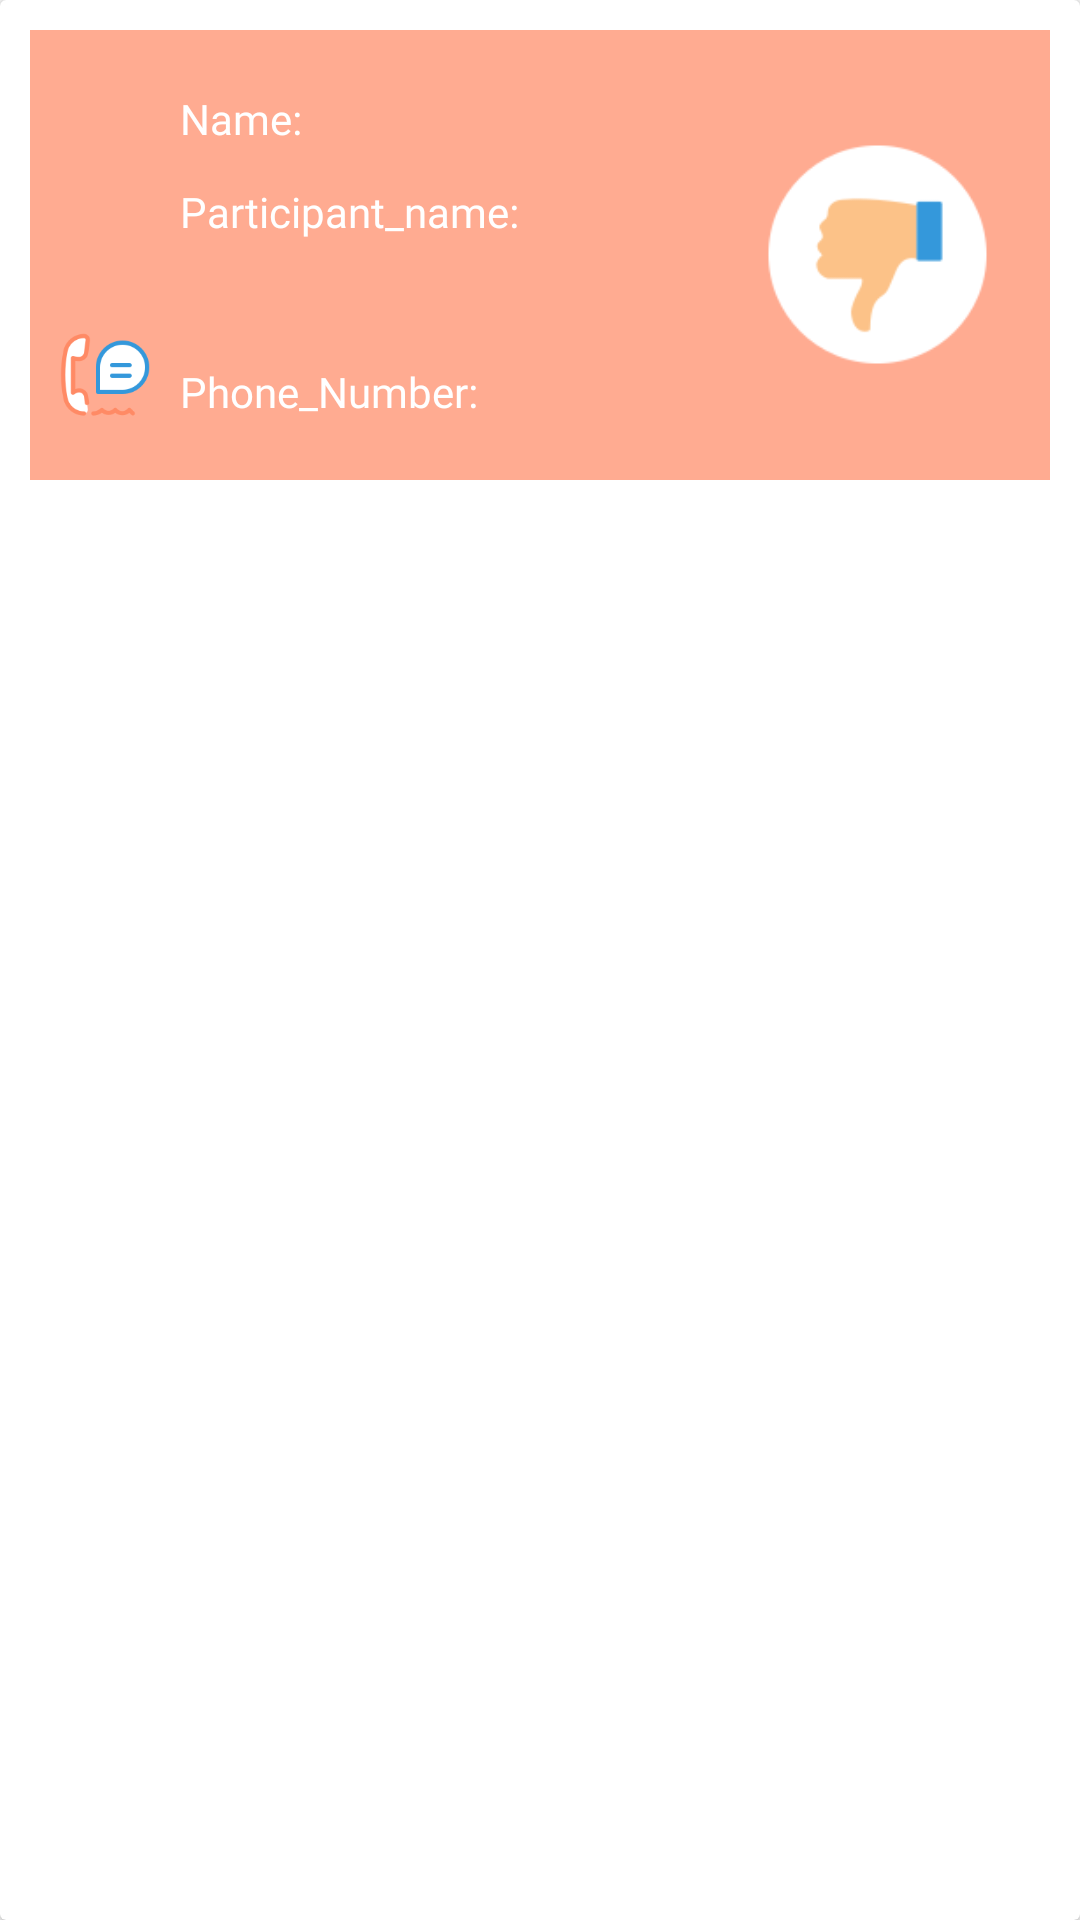

Icons on this 1080×1920 Android screen, each with its box as (x1, y1, x2, y2):
payment not done: (768, 145, 987, 364)
user phone: (61, 334, 150, 416)
